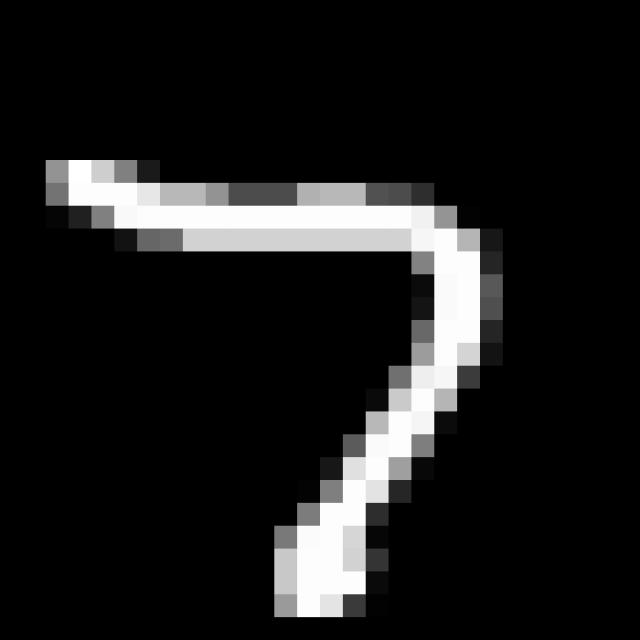seven -7-: (34, 148, 499, 618)
